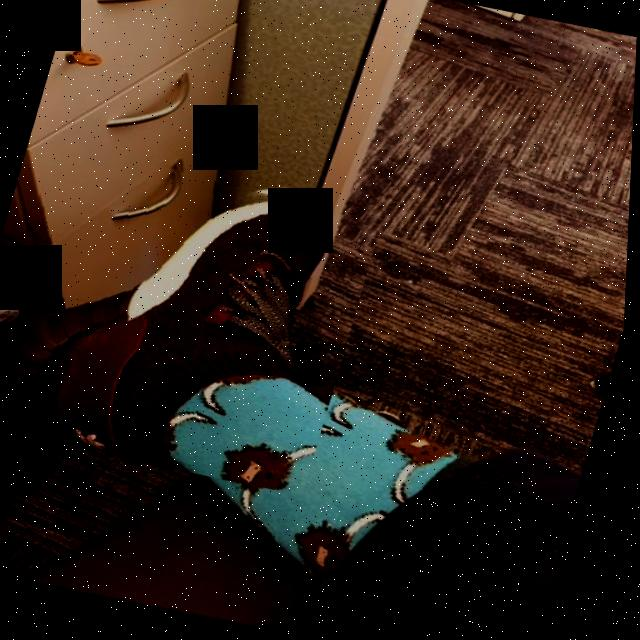shoe: (0, 125, 391, 512)
